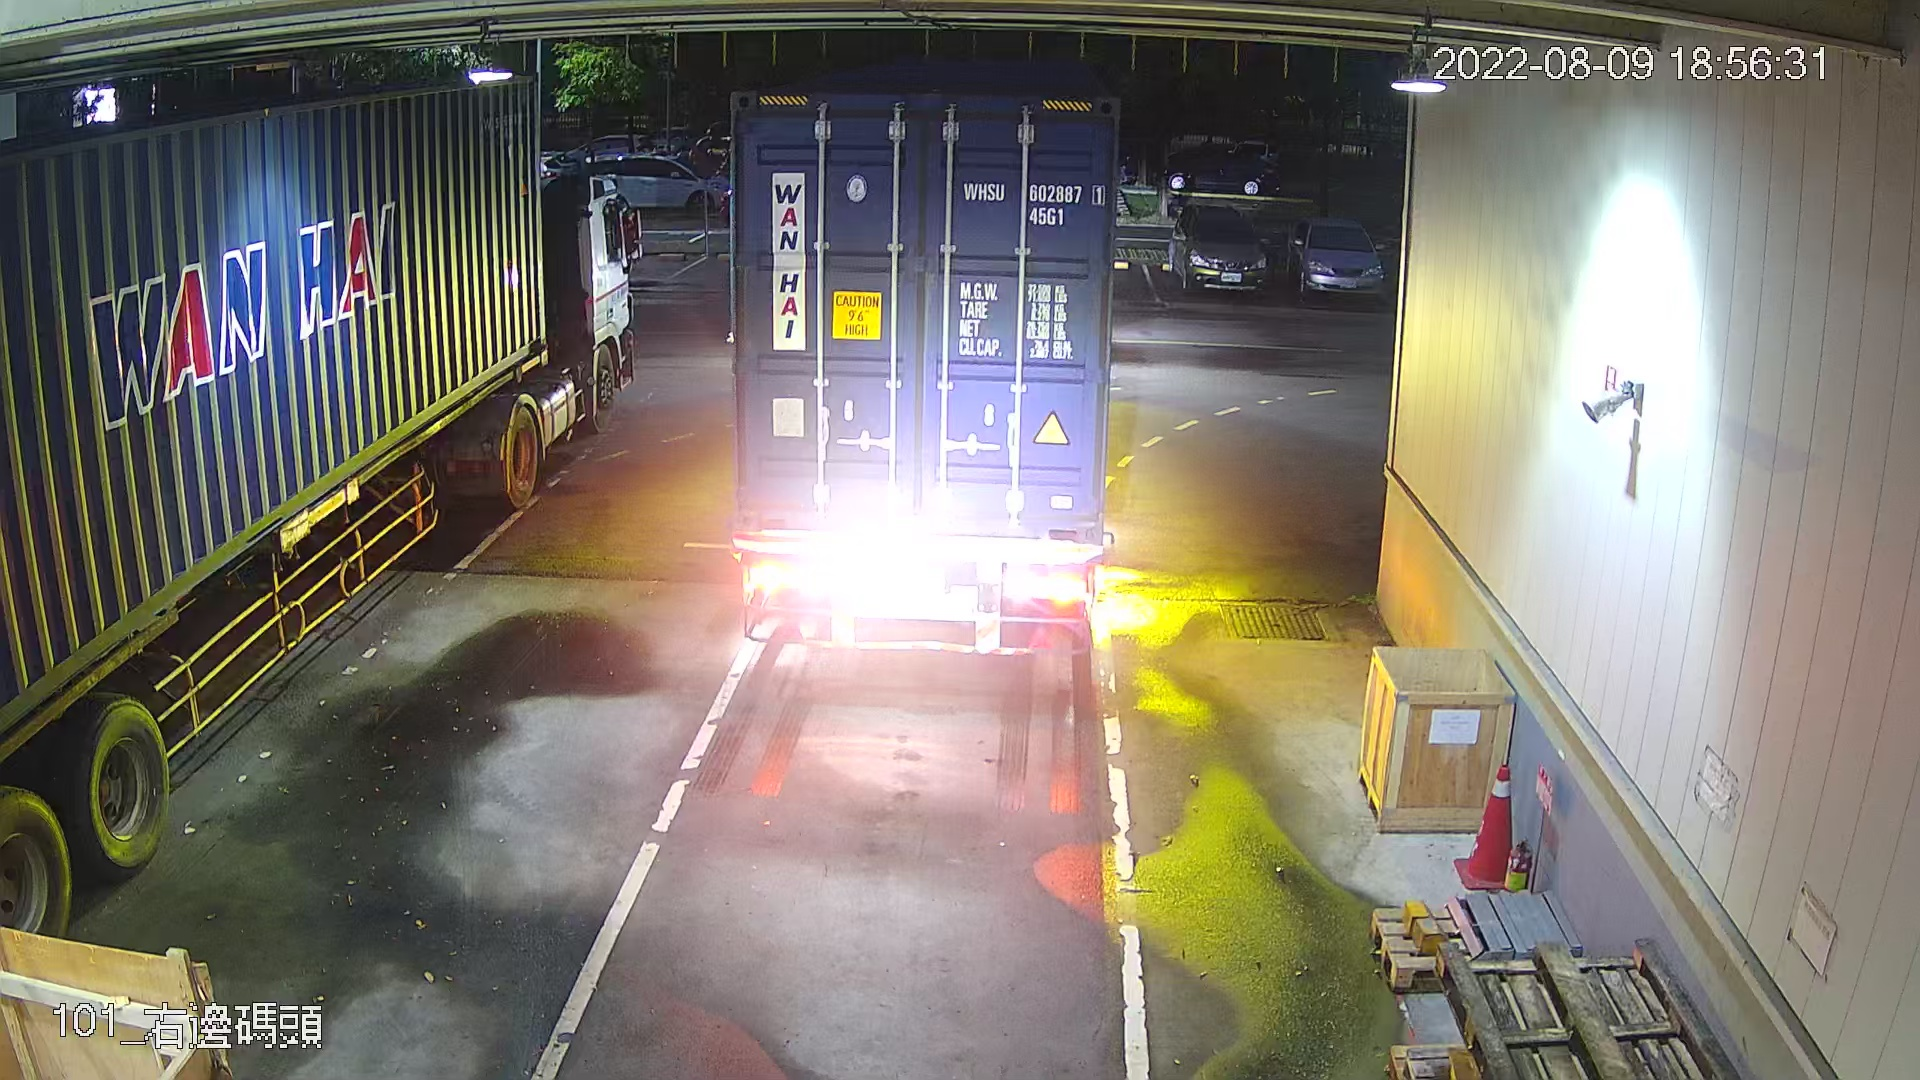container: (956, 173, 1109, 232)
